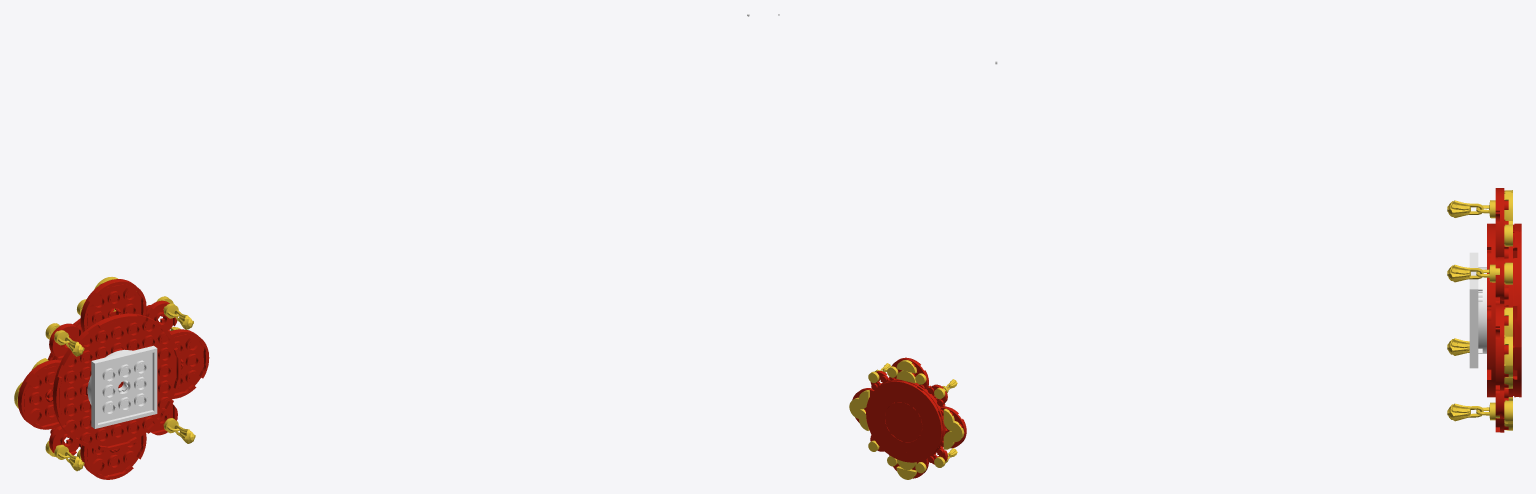
3 views of the same model, side by side, from view 1: azimuth 30°, elevation 25°; view 2: azimuth 150°, elevation 25°; view 3: azimuth 270°, elevation 25° (orthographic). The views are drawn at different scales.
Visible parts, largest first — view 1: 龙鹤福; view 2: 龙鹤福; view 3: 龙鹤福.
Boxes of the visible parts, <box> form: 龙鹤福: <box>14,277,209,479</box>; 龙鹤福: <box>849,357,966,479</box>; 龙鹤福: <box>1447,188,1521,432</box>.
Size of the model in its own units: 665 by 626 by 485.
